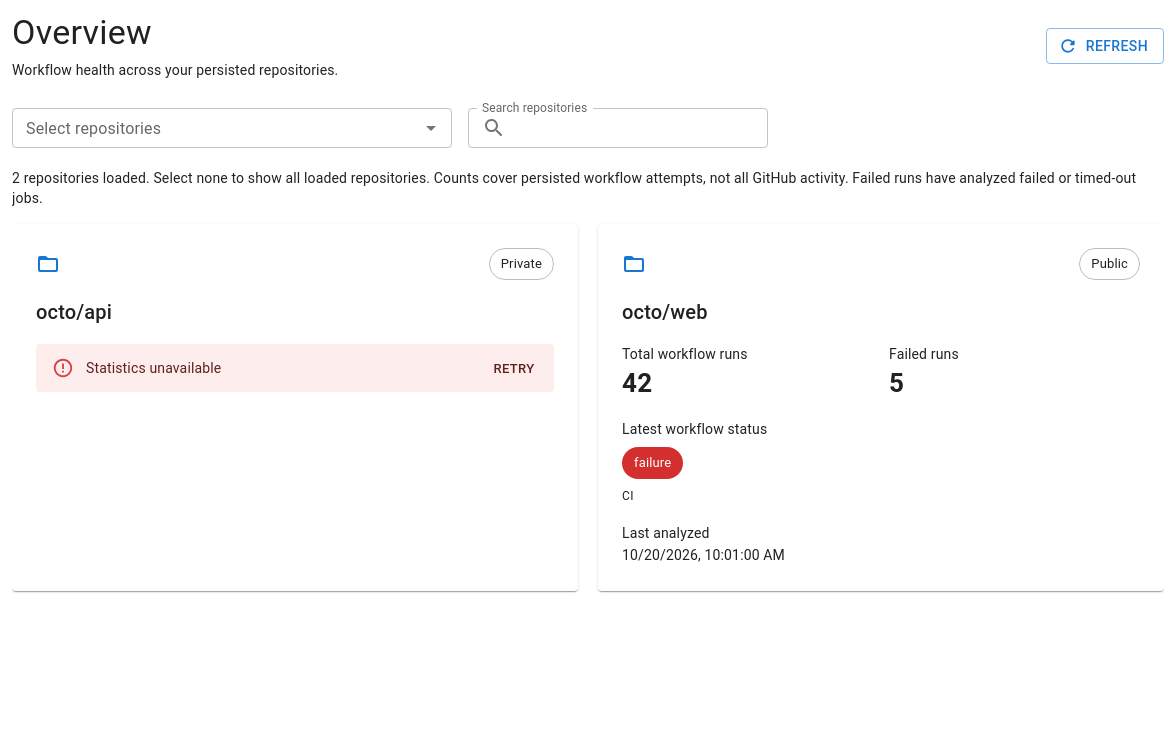
Test case: repository dashboard › keeps successful cards when one repository fails and supports per-card retry
The image size is (1176, 732).
Expected: the text "Statistics unavailable" is shown, [86,360,221,376]
Expected: the text "42" is shown, [622,368,652,398]
Click the button "Retry" at (514, 369), box [482,354,546,385]
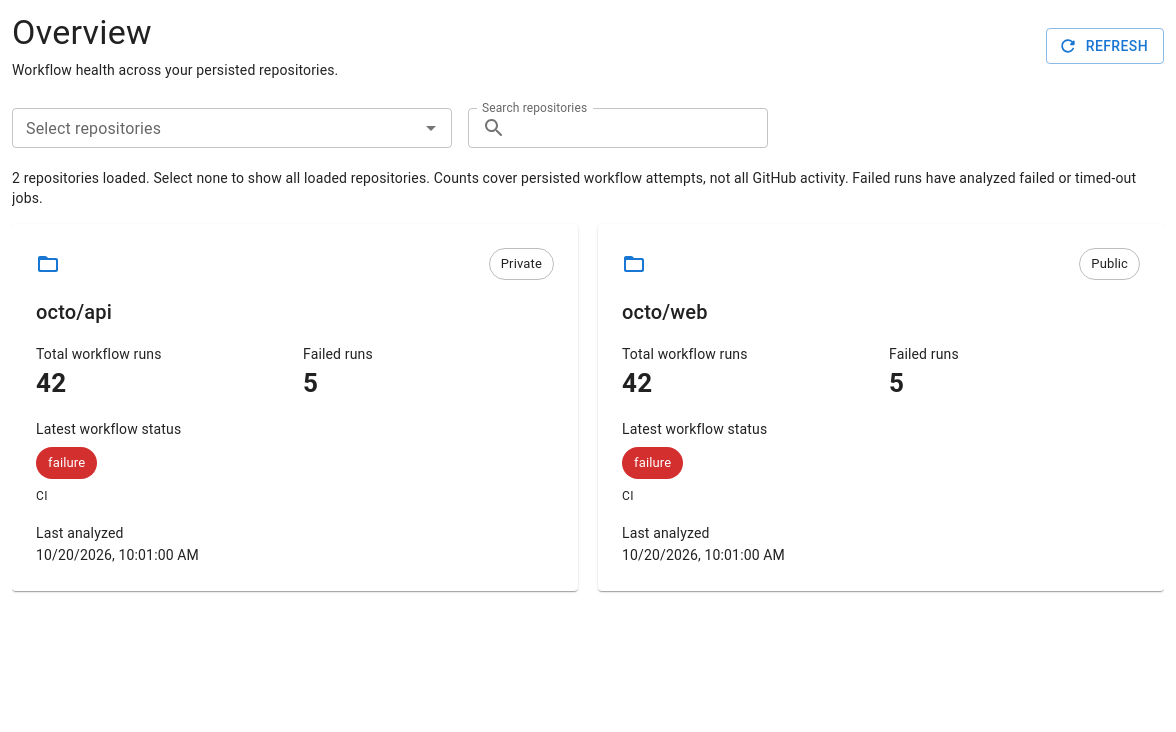
Result: the text "42" below "octo/api" is shown at [36,368,66,398]
